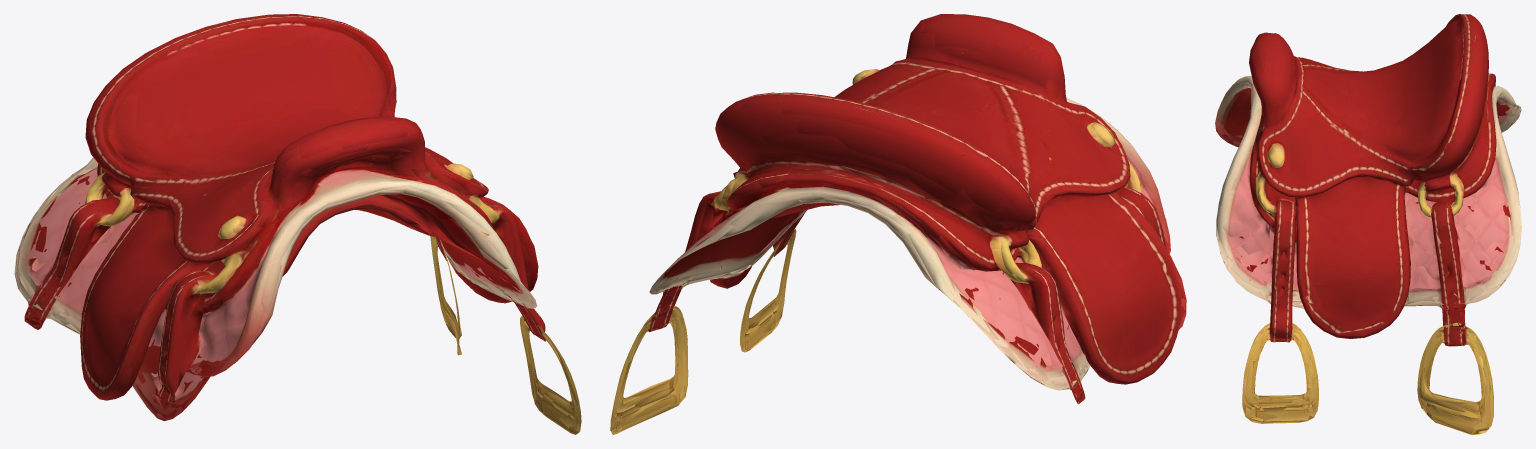
The picture shows the model from 3 angles, left to right: view 1: azimuth 30°, elevation 25°; view 2: azimuth 150°, elevation 25°; view 3: azimuth 270°, elevation 25°; orthographic projection. The views are drawn at different scales.
Parts seen in each view (by area): view 1: saddle-red; view 2: saddle-red; view 3: saddle-red.
Boxes of the visible parts, box(x1,y1,x2,y2) form: saddle-red: box(14, 14, 581, 434); saddle-red: box(610, 14, 1186, 434); saddle-red: box(1215, 14, 1521, 434).
Bounding box in the file's own units: 0.3048 × 0.2453 × 0.2249.
1 material, 1 textured.
